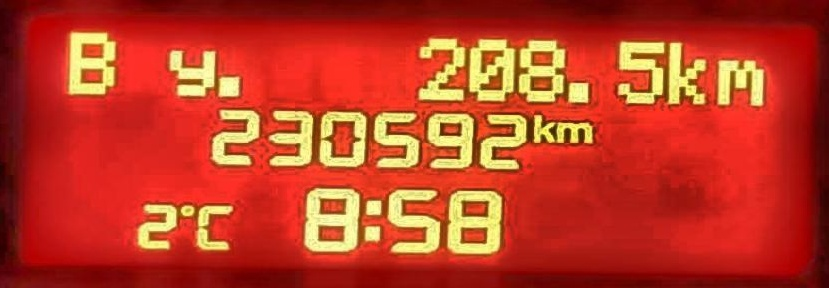-: (213, 73, 244, 98), (564, 79, 590, 104)
0: (464, 36, 516, 104), (316, 108, 368, 169)
2: (414, 34, 466, 101), (206, 107, 260, 168), (476, 112, 528, 171), (133, 201, 179, 250)
3: (266, 108, 315, 168)
5: (384, 186, 442, 255), (615, 39, 666, 107), (372, 109, 422, 170)
8: (300, 186, 361, 254), (444, 187, 505, 254), (516, 36, 566, 103)
9: (422, 110, 477, 171)
X: (62, 27, 120, 100), (163, 46, 216, 98), (667, 40, 707, 107), (714, 58, 767, 107), (194, 202, 236, 253), (362, 197, 385, 245), (555, 118, 593, 145), (529, 112, 555, 144)
